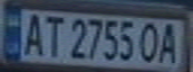2: (66, 15, 87, 60)
5: (118, 17, 139, 62), (103, 17, 121, 61)
7: (84, 16, 106, 61)
A: (18, 10, 48, 57), (154, 20, 184, 64)
O: (136, 19, 163, 63)
T: (39, 11, 66, 57)
